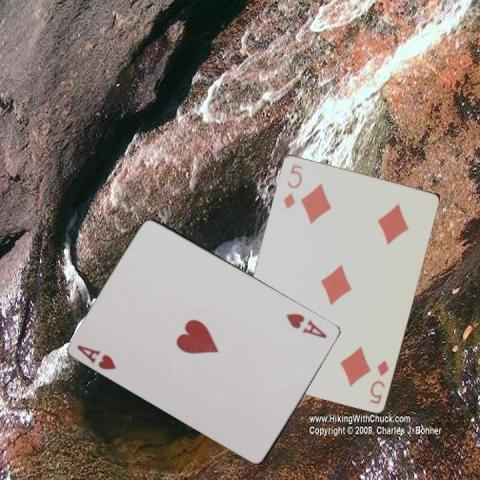5d: (280, 161, 304, 210), (366, 357, 390, 405)
Ah: (283, 310, 329, 340), (74, 342, 118, 371)
